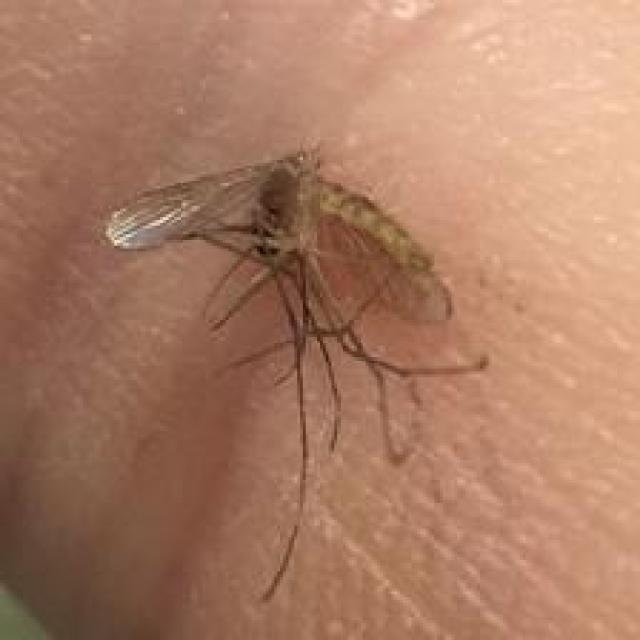Culex: (101, 140, 490, 603)
